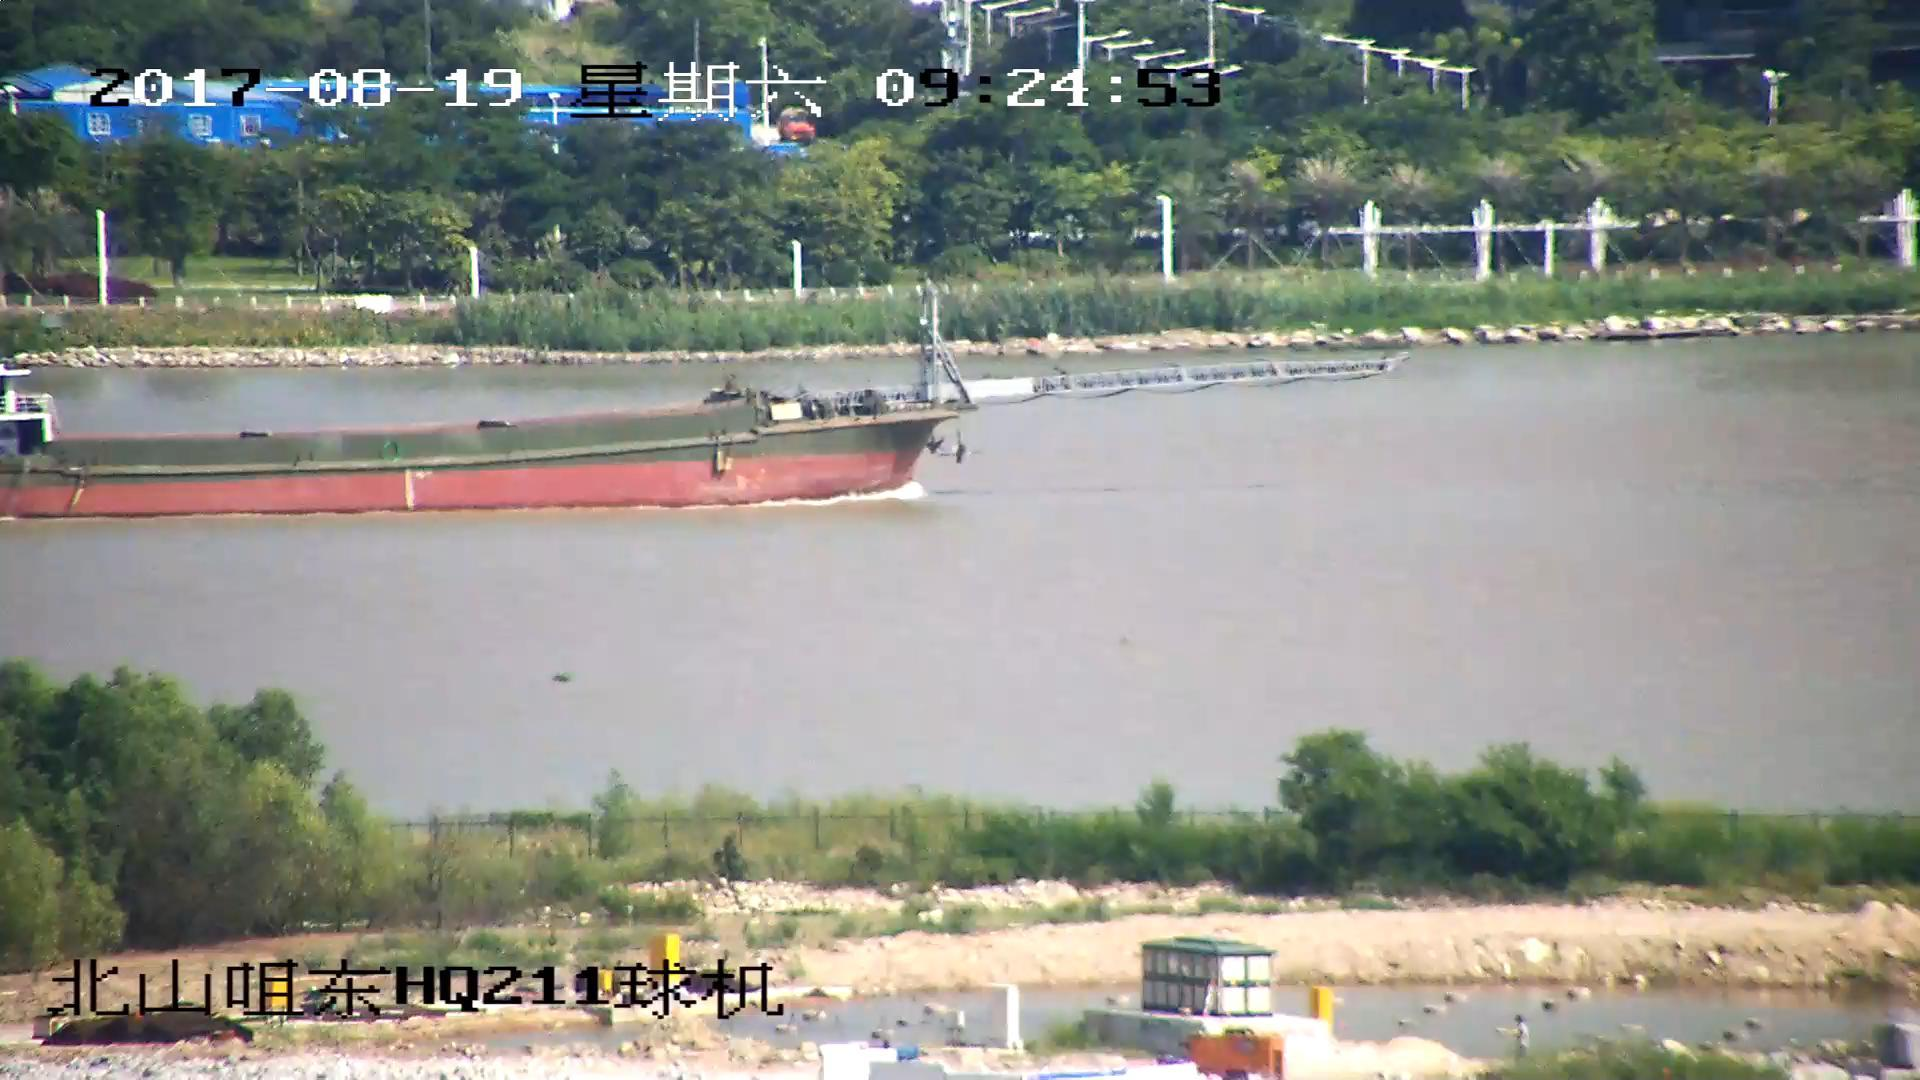Ship: (3, 284, 1389, 520)
